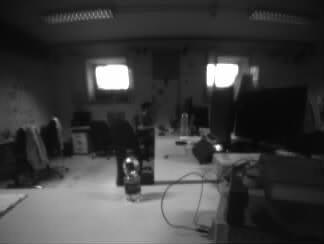Bottle: (124, 153, 143, 202)
